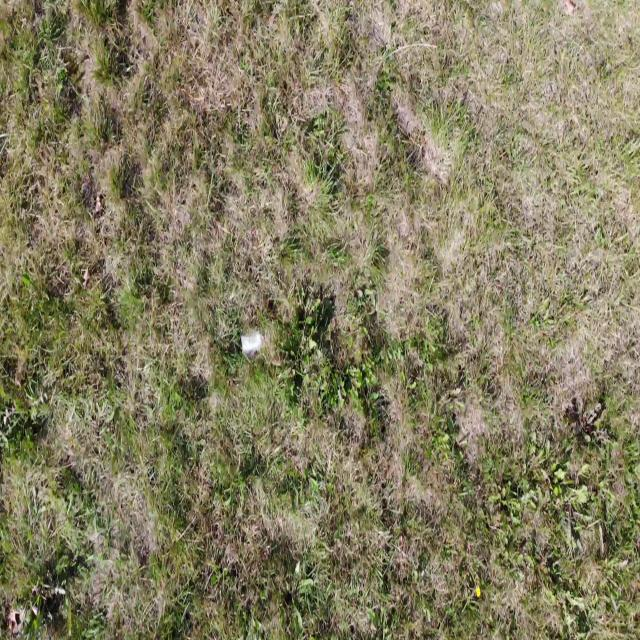rubbish: (240, 330, 262, 356)
